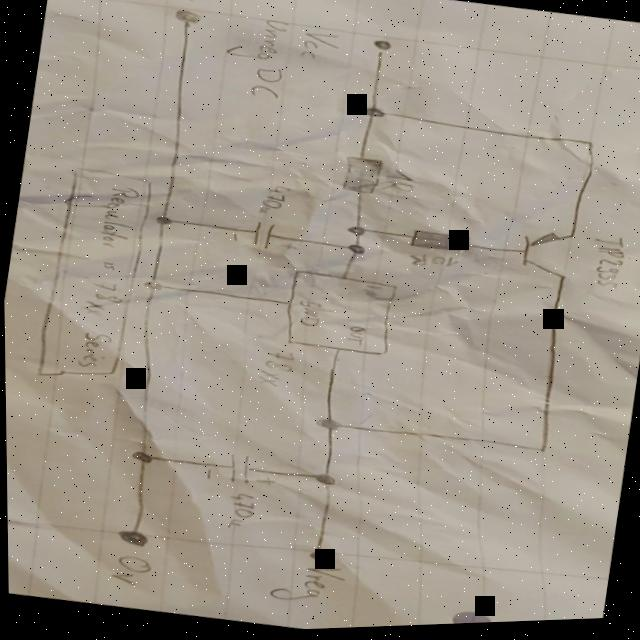capacitor: (201, 448, 281, 493), (227, 217, 302, 258)
junction: (126, 448, 156, 468), (308, 472, 338, 490), (313, 418, 343, 436), (360, 107, 389, 124), (345, 226, 368, 241), (345, 244, 367, 259), (142, 278, 163, 293), (154, 215, 175, 228), (582, 143, 599, 153), (531, 450, 549, 459)
resistor: (406, 228, 473, 260), (338, 156, 385, 199)
terminal: (112, 525, 153, 551), (170, 8, 206, 30), (367, 40, 395, 61), (304, 550, 332, 567)
text: (36, 176, 144, 375), (219, 14, 296, 104), (263, 559, 348, 614), (585, 236, 629, 297), (105, 553, 154, 591), (254, 348, 296, 391), (220, 491, 258, 535), (296, 31, 342, 65), (256, 184, 292, 220), (408, 253, 462, 275), (294, 299, 326, 331), (383, 169, 418, 197), (359, 285, 388, 304), (344, 327, 368, 349), (174, 0, 211, 6)
transistor: (515, 230, 578, 288)
